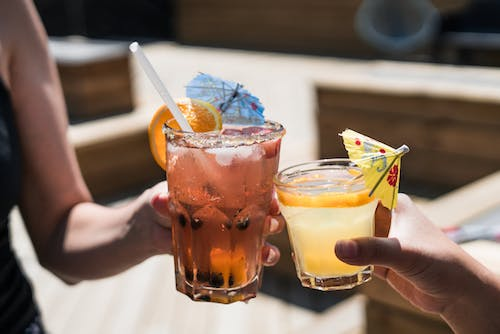alcohol: (162, 114, 286, 305), (273, 158, 388, 291)
